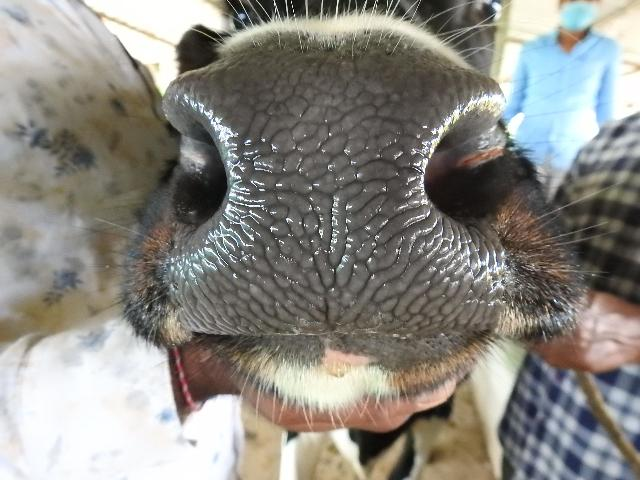Muzzle: (204, 67, 454, 329)
